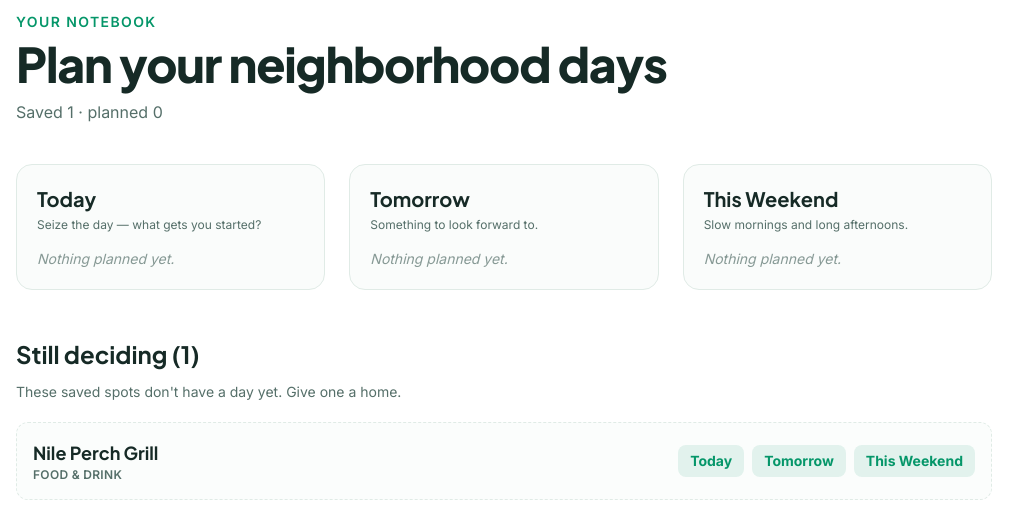
PlannerPage › persists a today-assignment and moves the spot out of the deciding tray
Click the button "Today" at (711, 461), box [678,445,744,477]
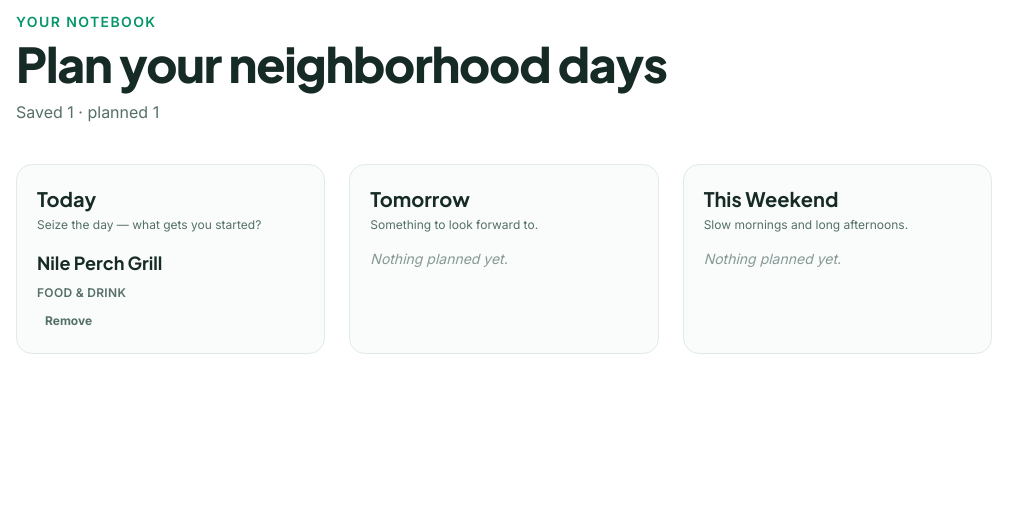
Check: the heading "Still deciding" is gone
